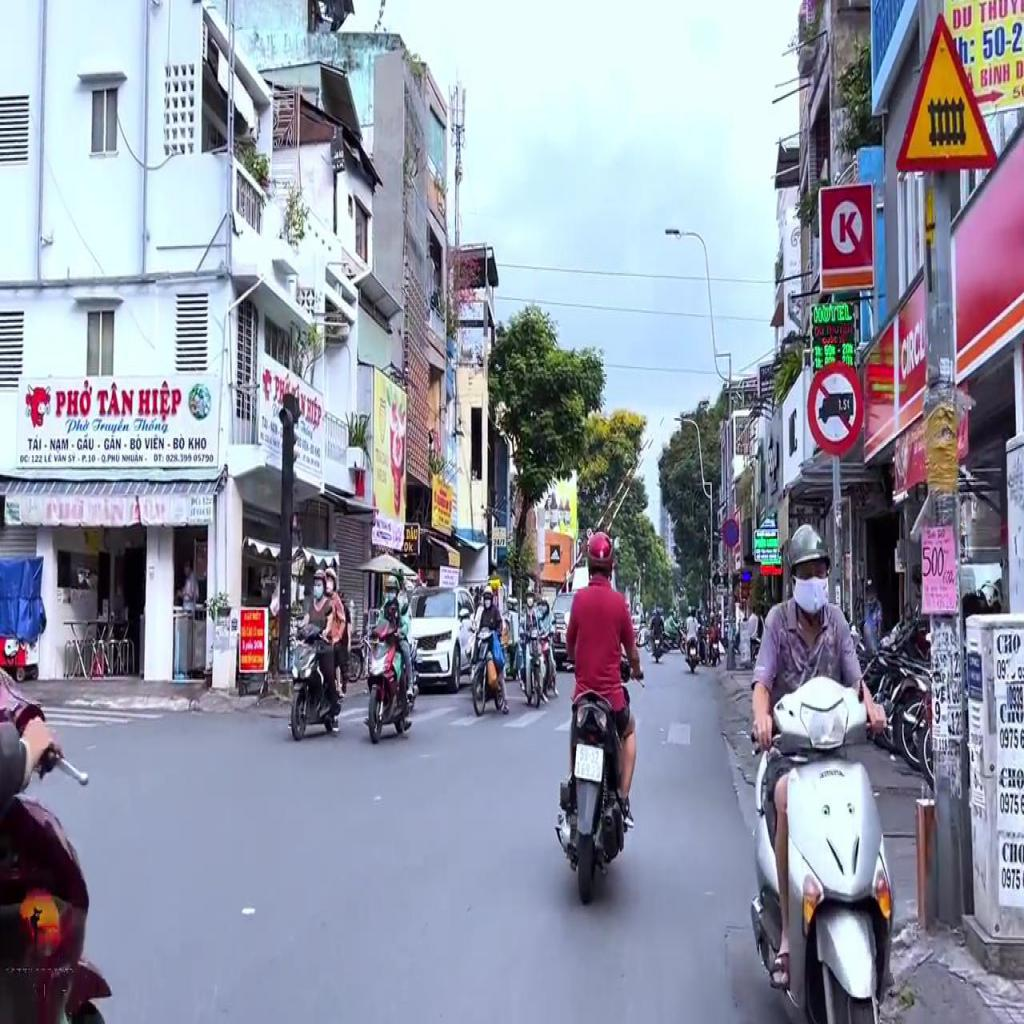cam_do_xe: (724, 519, 739, 546)
cam_o_to_tai: (806, 360, 863, 458)
khac: (896, 8, 1002, 170)
